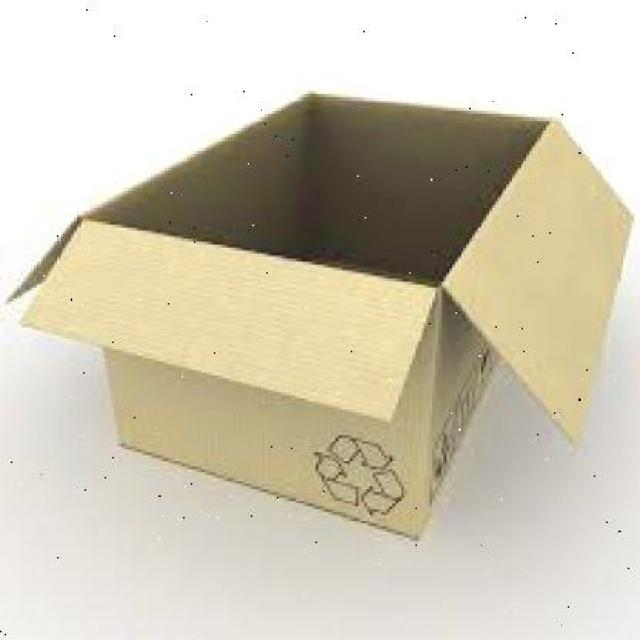box: (3, 90, 634, 540)
opened: (5, 90, 635, 452)
